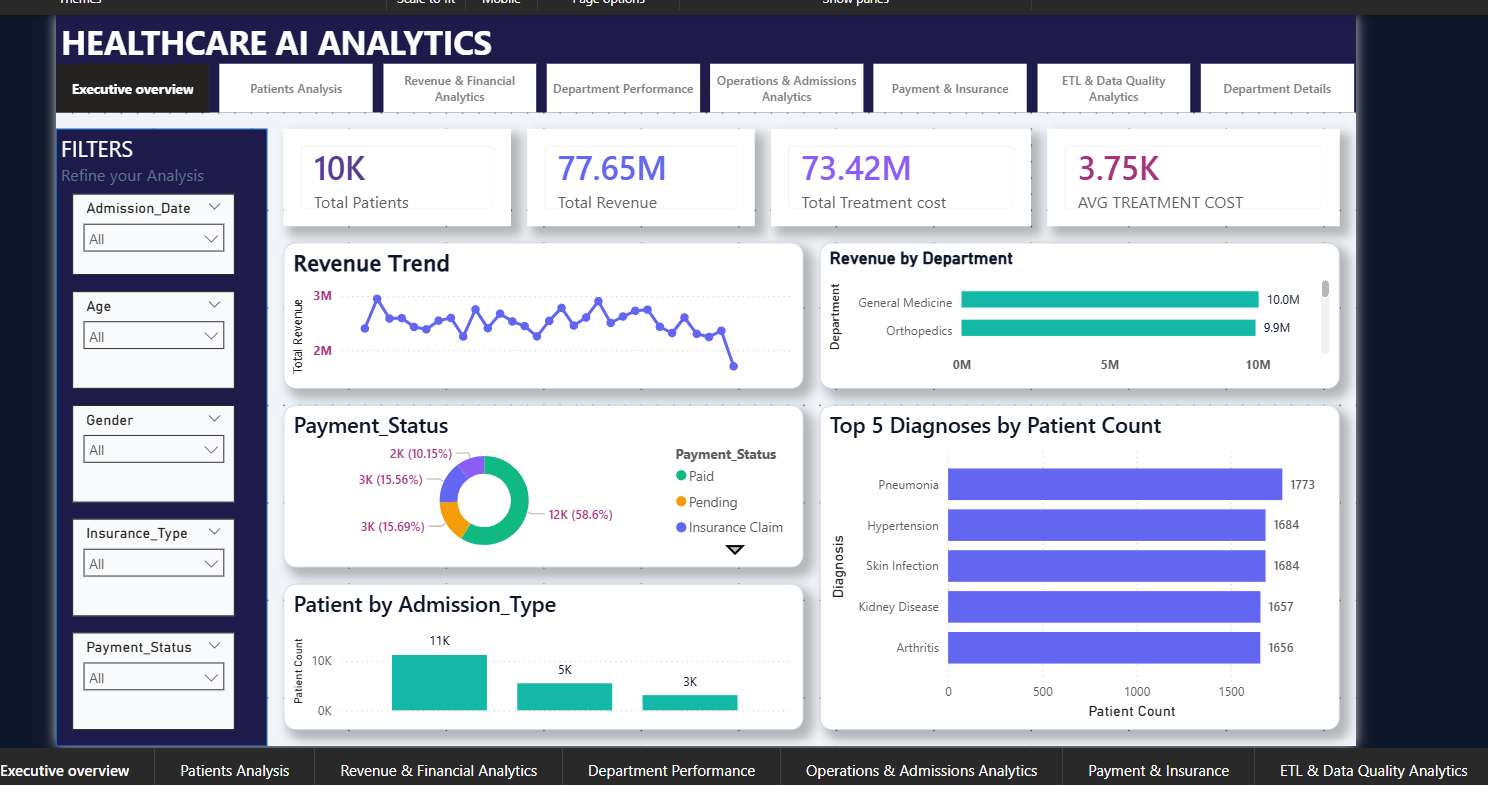

This screenshot's page, from the dashboard's own definition file:
{"tool":"powerbi","page":{"name":"Executive overview","canvas":[1280,720],"ordinal":0},"visuals":[{"type":"cardVisual","fields":{"Data":["healthcare_ai_etl healthcare_clean.Total Patients"]},"box":[224,112,224,96],"z":0},{"type":"cardVisual","fields":{"Data":["healthcare_ai_etl healthcare_clean.Total Revenue"]},"box":[464,112,224,96],"z":1000},{"type":"cardVisual","fields":{"Data":["healthcare_ai_etl healthcare_clean.Treatment cost"]},"box":[704,112,256,96],"z":2000},{"type":"lineChart","title":"Revenue Trend","fields":{"Category":["healthcare_ai_etl healthcare_clean.Admission_Date.Variation.Date Hierarchy.Day"],"Y":["healthcare_ai_etl healthcare_clean.Total Revenue"]},"box":[224,224,512,144],"z":3000},{"type":"clusteredBarChart","title":"Revenue by Department","fields":{"Category":["healthcare_ai_etl healthcare_clean.Department"],"Y":["healthcare_ai_etl healthcare_clean.Total Revenue"]},"box":[752,224,512,144],"z":4000},{"type":"donutChart","title":"Payment_Status","fields":{"Y":["healthcare_ai_etl healthcare_clean.Patient Count"],"Category":["healthcare_ai_etl healthcare_clean.Payment_Status"]},"box":[224,384,512,160],"z":5000},{"type":"clusteredBarChart","title":"Top 5 Diagnoses by Patient Count","fields":{"Category":["healthcare_ai_etl healthcare_clean.Diagnosis"],"Y":["healthcare_ai_etl healthcare_clean.Patient Count"]},"box":[752,384,512,320],"z":6000},{"type":"clusteredColumnChart","title":"Patient  by Admission_Type","fields":{"Category":["healthcare_ai_etl healthcare_clean.Admission_Type"],"Y":["healthcare_ai_etl healthcare_clean.Patient Count"]},"box":[224,560,512,144],"z":7000},{"type":"textbox","box":[0,0,1280,96],"z":8000},{"type":"shape","box":[0,112,208,608],"z":9000},{"type":"textbox","box":[0,112,192,608],"z":10000},{"type":"slicer","fields":{"Values":["healthcare_ai_etl healthcare_clean.Admission_Date"]},"box":[16,176,160,80],"z":11000},{"type":"slicer","fields":{"Values":["healthcare_ai_etl healthcare_clean.Age"]},"box":[16,272,160,96],"z":12000},{"type":"slicer","fields":{"Values":["healthcare_ai_etl healthcare_clean.Gender"]},"box":[16,384,160,96],"z":13000},{"type":"slicer","fields":{"Values":["healthcare_ai_etl healthcare_clean.Insurance_Type"]},"box":[16,496,160,96],"z":14000},{"type":"slicer","fields":{"Values":["healthcare_ai_etl healthcare_clean.Payment_Status"]},"box":[16,608,160,96],"z":15000},{"type":"cardVisual","fields":{"Data":["healthcare_ai_etl healthcare_clean.AVG TREATMENT COST"]},"box":[976,112,288,96],"z":16000},{"type":"pageNavigator","box":[0,48,1280,48],"z":17000}]}

Visuals, with their boxes on the page's 1280x720 design canvas (x1, y1, x2, y2). These are canvas units, not pixel positions in the 1488x785 screenshot, which may show the page scaled, cropped or inside an application window:
cardVisual - healthcare_ai_etl healthcare_clean.Total Patients: (224, 112, 448, 208)
cardVisual - healthcare_ai_etl healthcare_clean.Total Revenue: (464, 112, 688, 208)
cardVisual - healthcare_ai_etl healthcare_clean.Treatment cost: (704, 112, 960, 208)
"Revenue Trend" lineChart: (224, 224, 736, 368)
"Revenue by Department" clusteredBarChart: (752, 224, 1264, 368)
"Payment_Status" donutChart: (224, 384, 736, 544)
"Top 5 Diagnoses by Patient Count" clusteredBarChart: (752, 384, 1264, 704)
"Patient  by Admission_Type" clusteredColumnChart: (224, 560, 736, 704)
textbox: (0, 0, 1280, 96)
shape: (0, 112, 208, 720)
textbox: (0, 112, 192, 720)
slicer - healthcare_ai_etl healthcare_clean.Admission_Date: (16, 176, 176, 256)
slicer - healthcare_ai_etl healthcare_clean.Age: (16, 272, 176, 368)
slicer - healthcare_ai_etl healthcare_clean.Gender: (16, 384, 176, 480)
slicer - healthcare_ai_etl healthcare_clean.Insurance_Type: (16, 496, 176, 592)
slicer - healthcare_ai_etl healthcare_clean.Payment_Status: (16, 608, 176, 704)
cardVisual - healthcare_ai_etl healthcare_clean.AVG TREATMENT COST: (976, 112, 1264, 208)
pageNavigator: (0, 48, 1280, 96)
